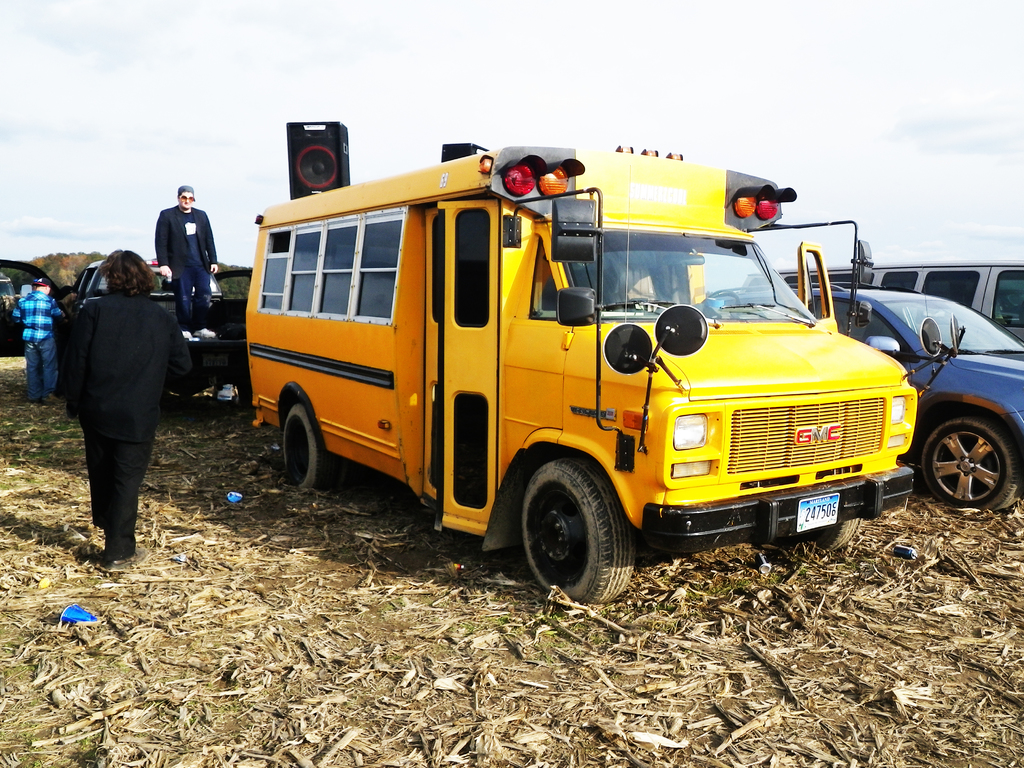person: (14, 276, 67, 403)
